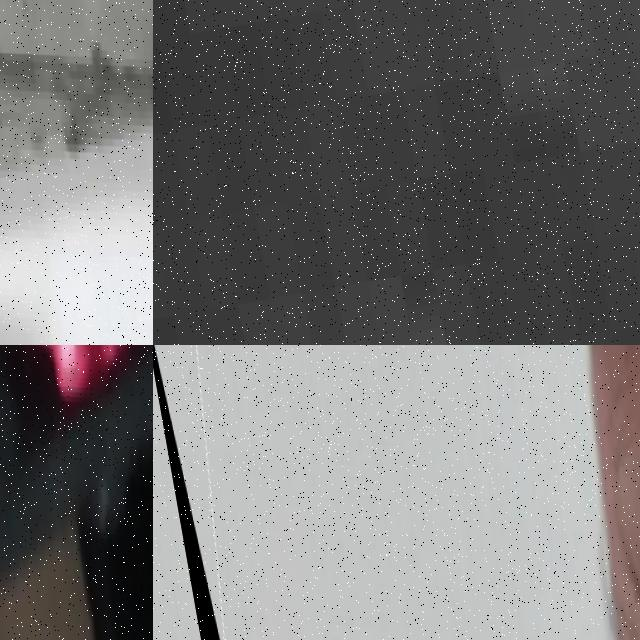drone: (153, 345, 640, 640), (0, 0, 153, 345), (0, 345, 153, 640)
